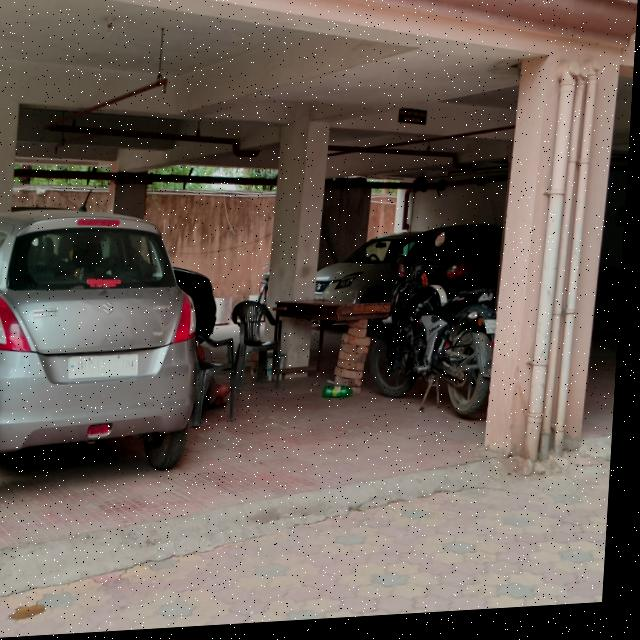bike: (371, 251, 508, 450)
car: (0, 191, 217, 520), (317, 224, 421, 306)
